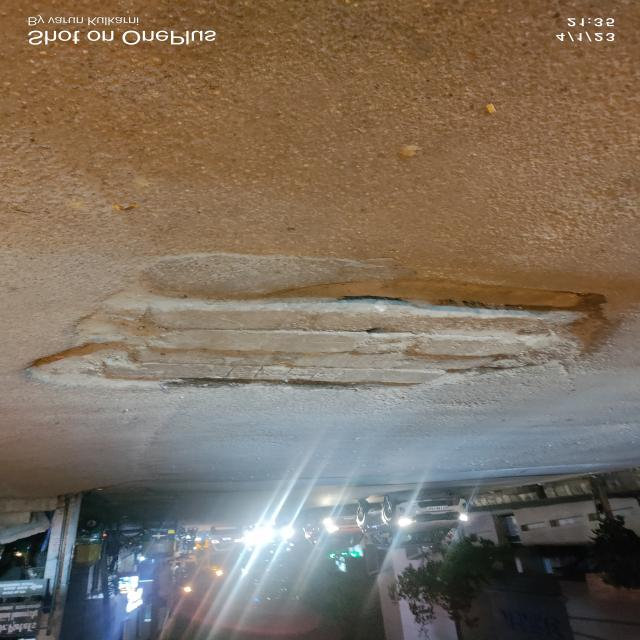potholes: (28, 258, 634, 404)
